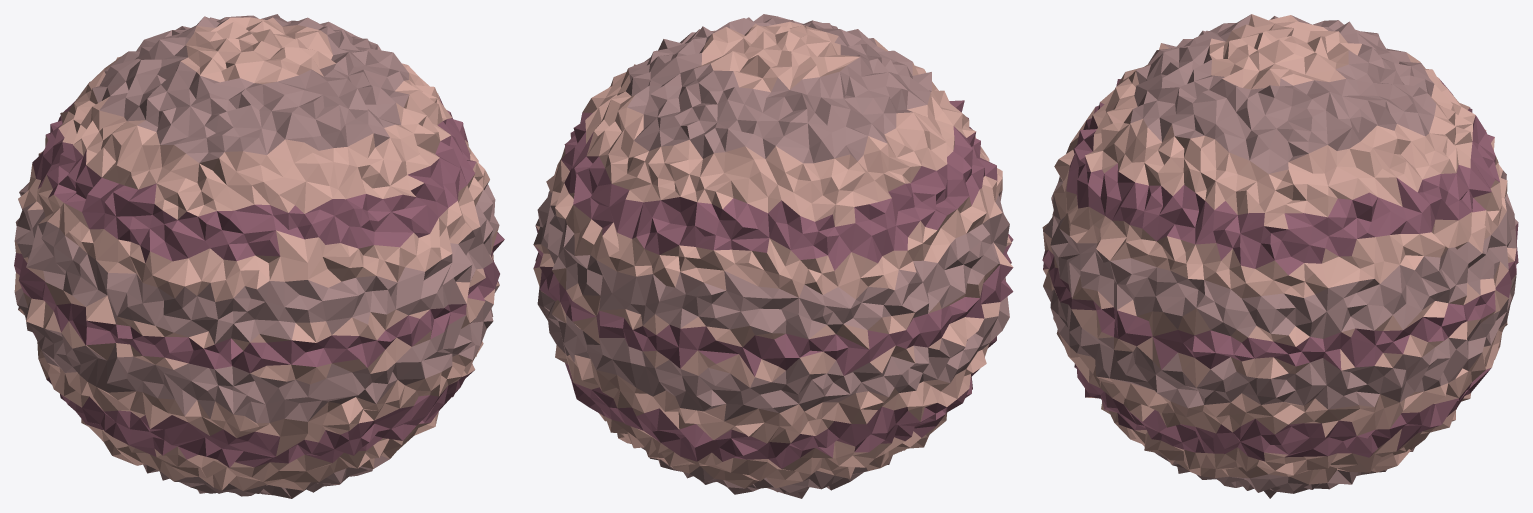
The model's file is pluto0.fbx.
3 renders of one model, left to right at view 1: azimuth 30°, elevation 25°; view 2: azimuth 150°, elevation 25°; view 3: azimuth 270°, elevation 25°, orthographic.
Visible parts, largest first — view 1: Icosphere; view 2: Icosphere; view 3: Icosphere.
Boxes of the visible parts, box(x1,y1,x2,y2) form: Icosphere: box(14, 14, 504, 498); Icosphere: box(533, 14, 1013, 498); Icosphere: box(1042, 14, 1518, 498).
Bounding box in the file's own units: 209 × 211 × 206.
